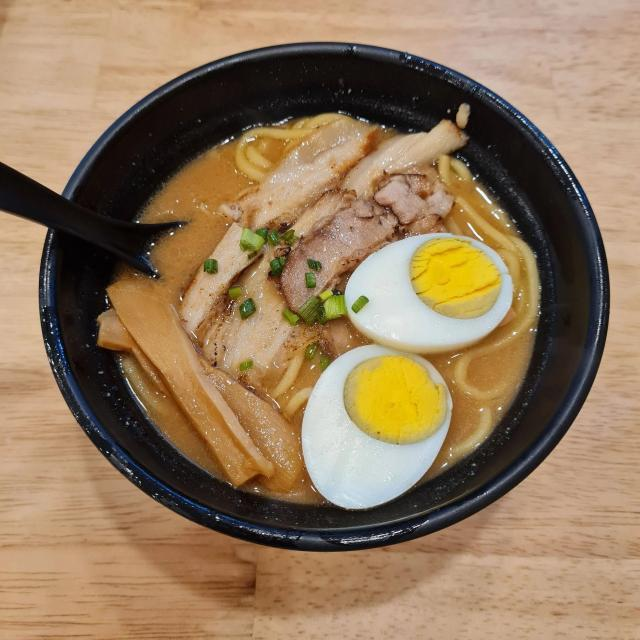cac loai rau cu: (100, 275, 306, 508)
mi misoramen: (91, 112, 566, 518), (92, 110, 547, 521)
soi mi miso: (223, 114, 350, 185), (449, 356, 539, 447), (458, 170, 536, 254), (261, 338, 335, 420), (503, 228, 548, 351)
thit heo: (206, 134, 442, 262)
trung: (301, 344, 461, 517), (341, 237, 521, 353)
